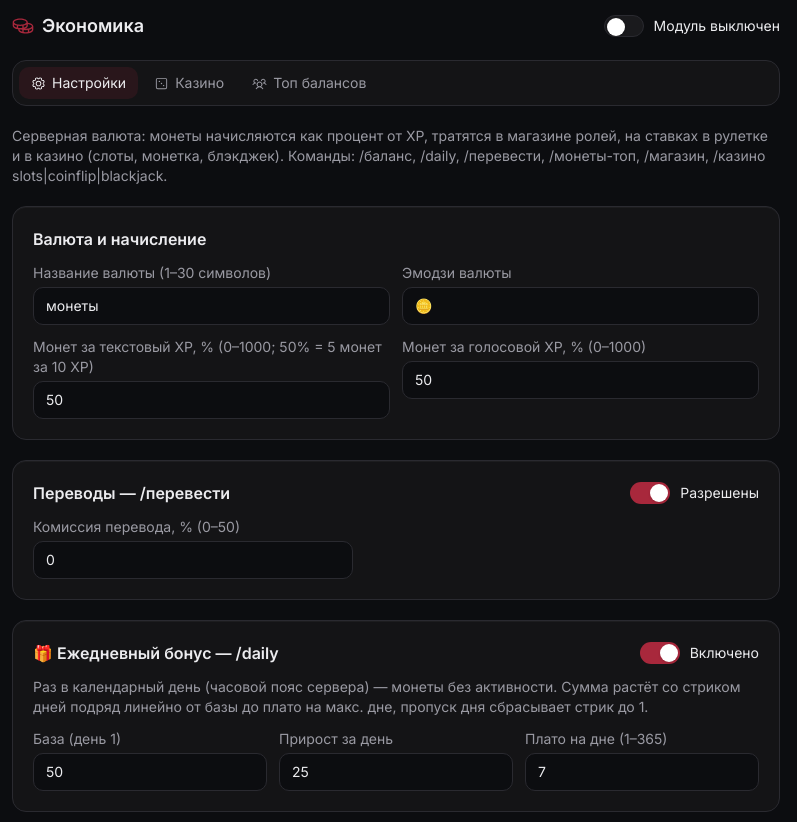
Test case: EconomyPage › renders settings cards and top
Expected: the text "Модуль выключен" is shown, [654,16,780,36]
Expected: the heading "Валюта и начисление" is shown, [33,229,206,249]
Click the button "Топ балансов".
click(309, 83)  # box [240,67,378,99]
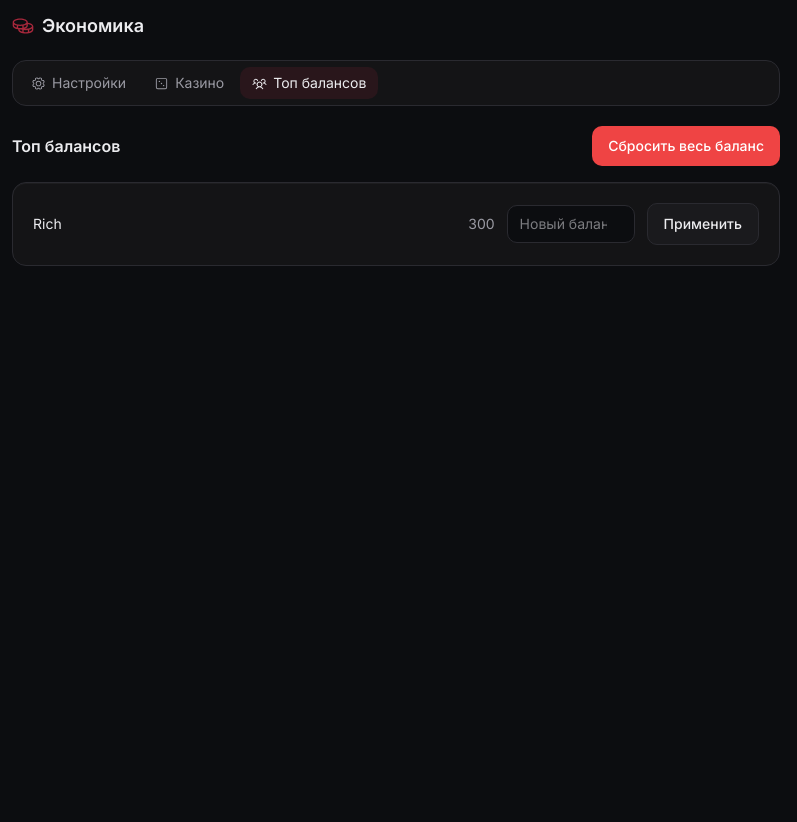
Expected: the text "Rich" is shown, [33,215,62,232]
